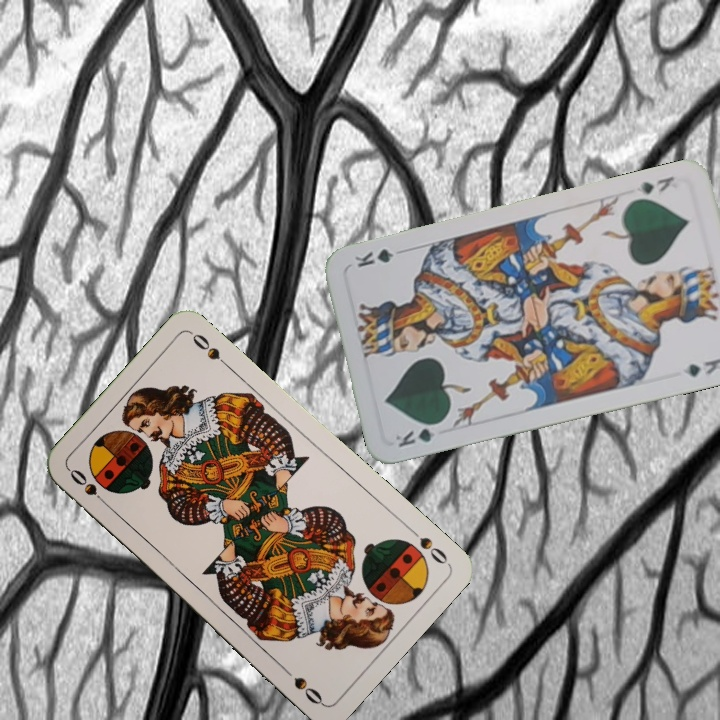GK: (391, 418, 446, 450), (632, 172, 677, 198)
SO: (65, 465, 113, 511), (404, 522, 451, 568)
